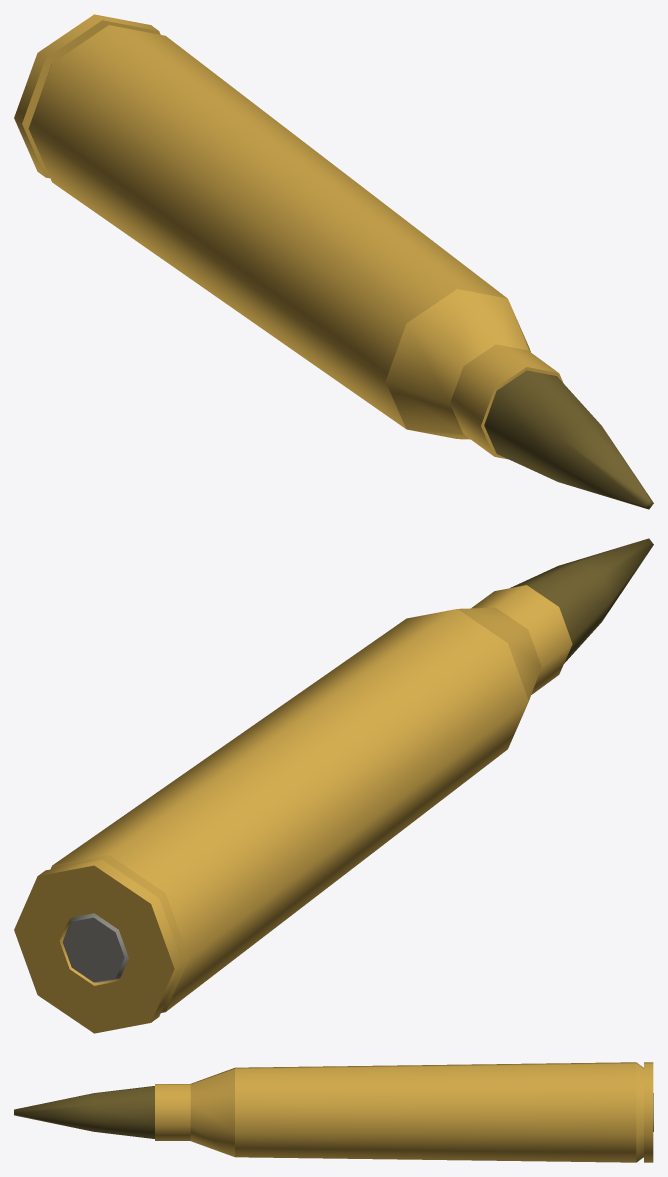
File: Bullet556.FBX
The picture shows the model from 3 angles, top to bottom: view 1: azimuth 30°, elevation 25°; view 2: azimuth 150°, elevation 25°; view 3: azimuth 270°, elevation 25°; orthographic projection. The views are drawn at different scales.
Parts seen in each view (by area): view 1: Bullet556; view 2: Bullet556; view 3: Bullet556.
Boxes of the visible parts, x1,y1,x2,y2 form: Bullet556: (14, 14, 653, 509); Bullet556: (14, 538, 653, 1033); Bullet556: (14, 1062, 653, 1162).
Bounding box in the file's own units: 1.2 × 1.2 × 7.19.
